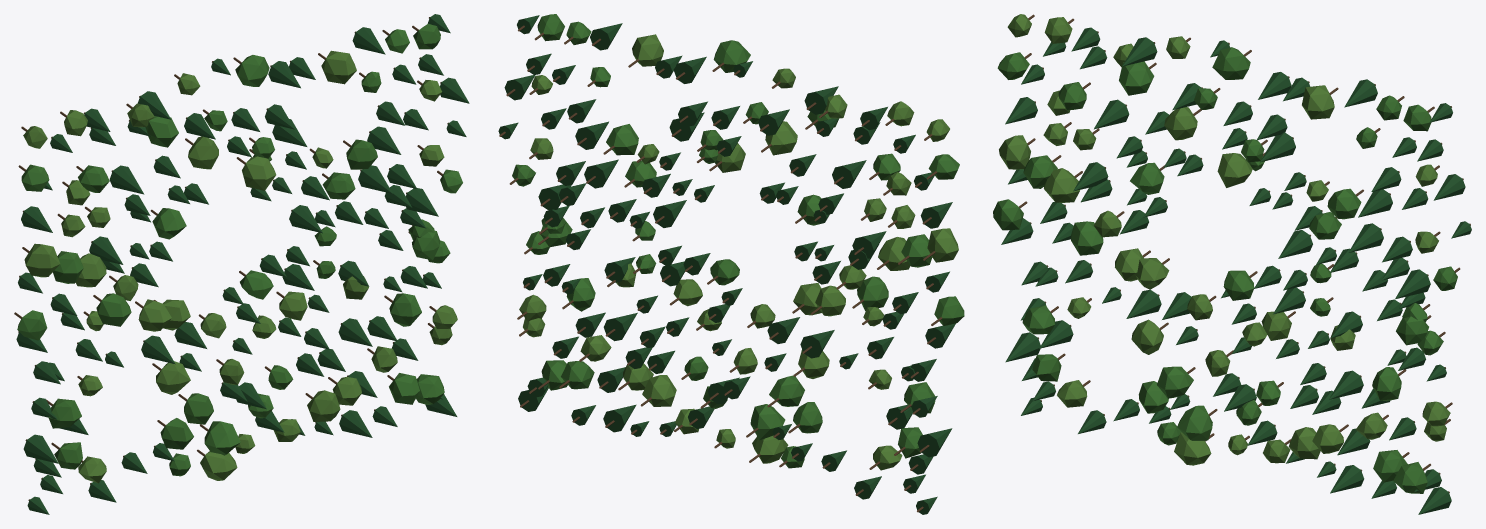
Rendered from trees.obj.
The picture shows the model from 3 angles, left to right: view 1: azimuth 30°, elevation 25°; view 2: azimuth 150°, elevation 25°; view 3: azimuth 330°, elevation 25°; orthographic projection. The views are drawn at different scales.
Size of the model in its own units: 96.53 by 84.58 by 11.89.
